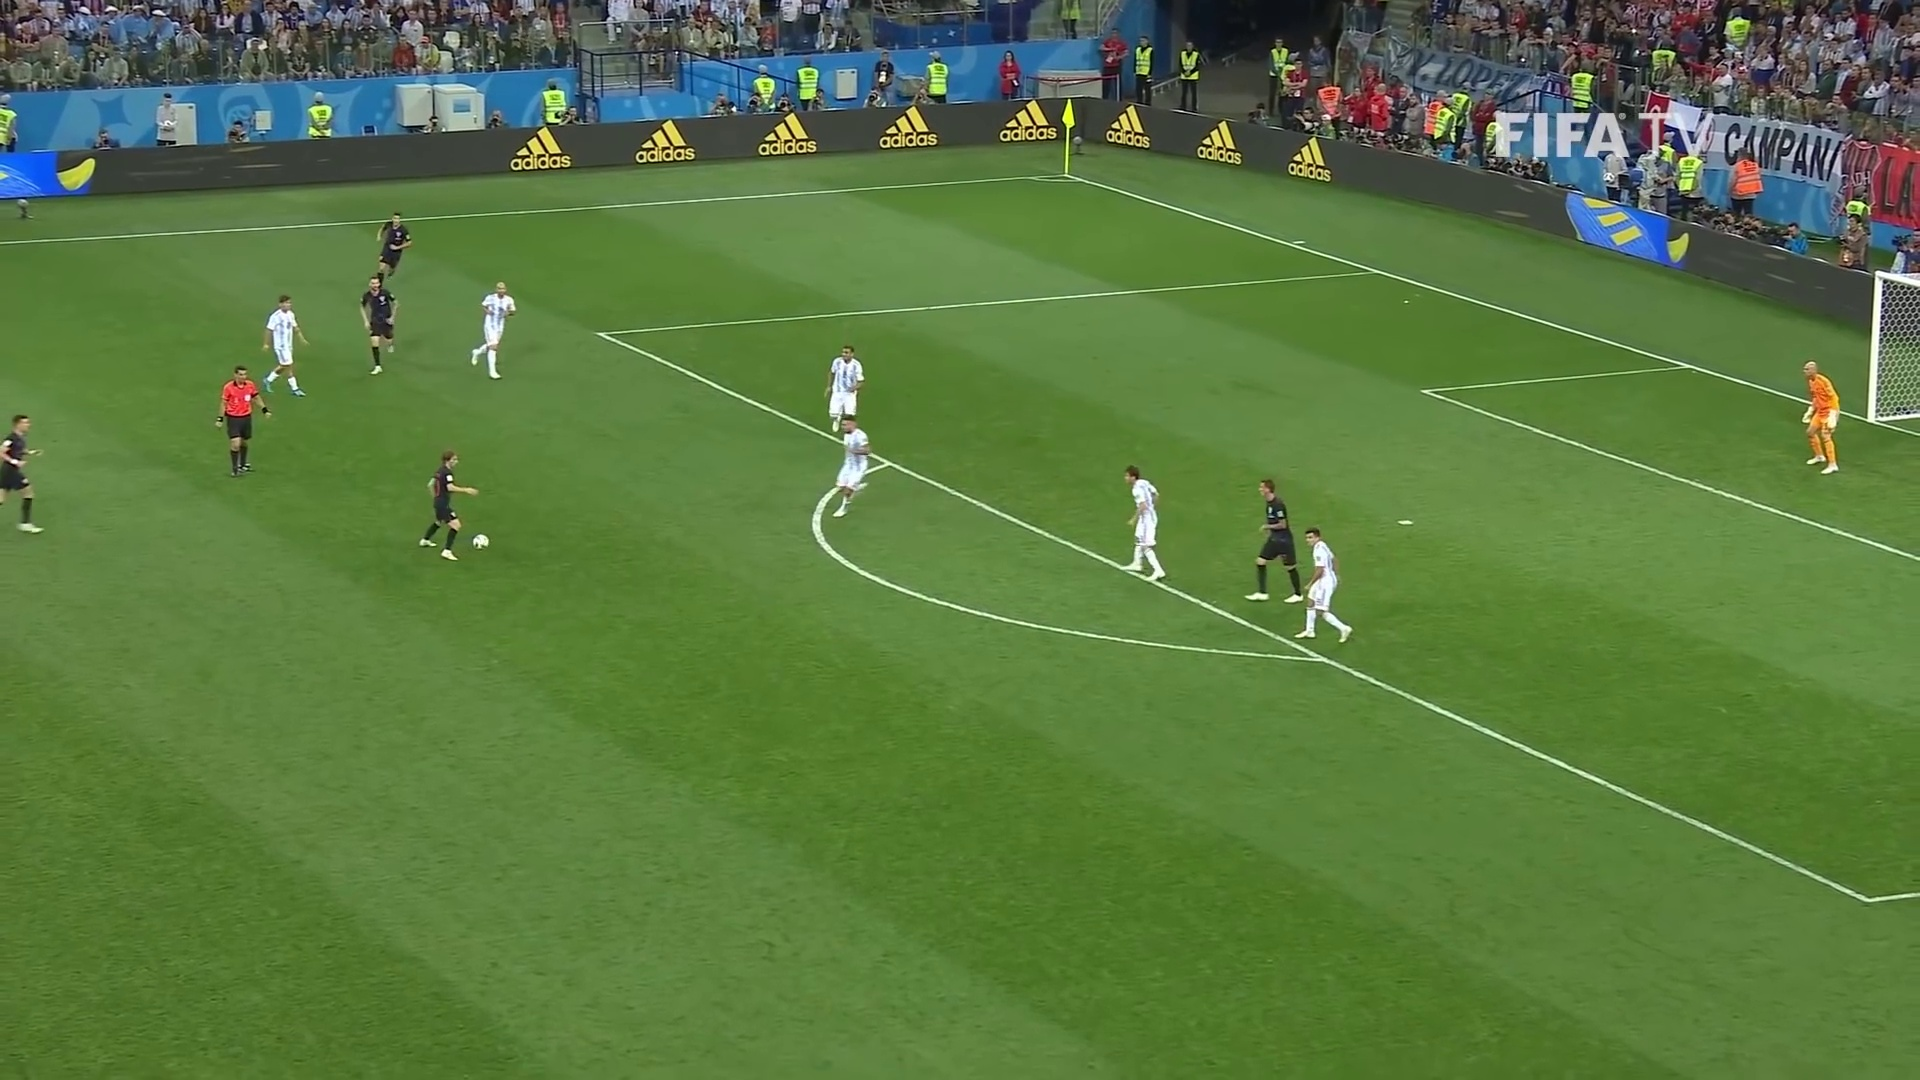ball: (473, 535, 487, 550)
person: (1250, 482, 1301, 608), (1299, 531, 1346, 647), (1793, 361, 1838, 476), (1122, 459, 1165, 580), (5, 412, 46, 535), (422, 455, 465, 563), (359, 282, 401, 376), (267, 298, 305, 400), (832, 416, 867, 523), (475, 276, 510, 374), (826, 345, 865, 421), (373, 210, 412, 278)
